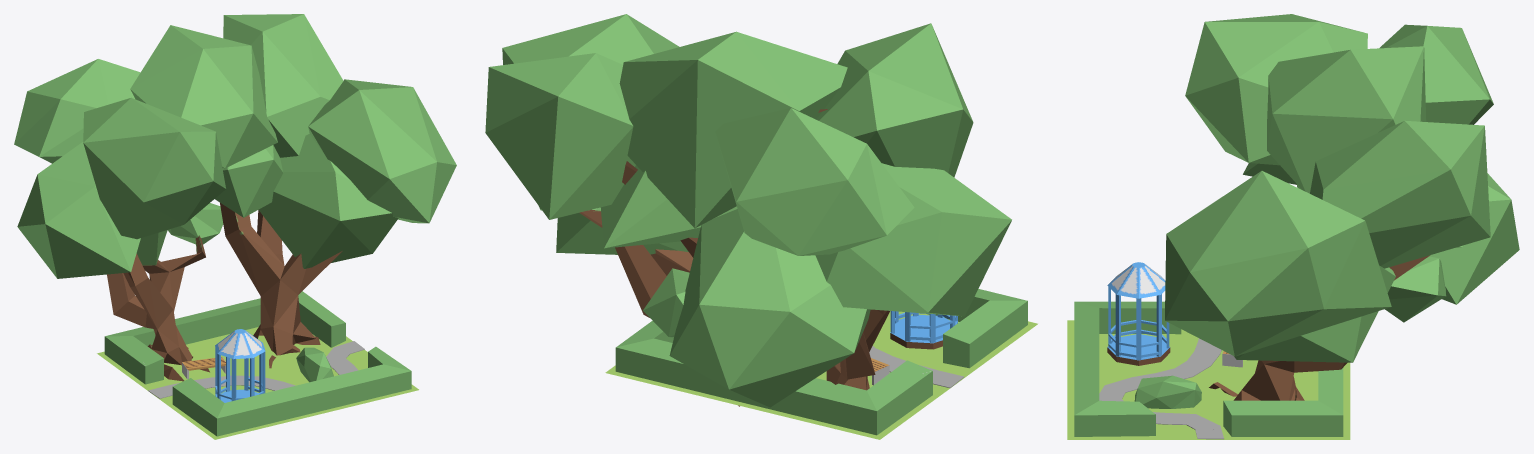
The model's file is Park.fbx.
The picture shows the model from 3 angles, left to right: view 1: azimuth 30°, elevation 25°; view 2: azimuth 150°, elevation 25°; view 3: azimuth 270°, elevation 25°; orthographic projection. The views are drawn at different scales.
Visible parts, largest first — view 1: Tree1_Leaves, Tree2_Leaves, Park_Border, Tree1, Tree2, Park_Ground, Path.001, Gazebo_Railings, Gazebo, Bush, Bench; view 2: Tree2_Leaves, Tree1_Leaves, Park_Border, Park_Ground, Tree1, Tree2, Gazebo, Gazebo_Railings, Path.001; view 3: Tree1_Leaves, Tree2_Leaves, Park_Border, Park_Ground, Tree1, Path.001, Gazebo, Gazebo_Railings, Bush.
Part boxes in pixels (left/top/right/bottom): Tree1_Leaves: left=130, top=14, right=456, bottom=268; Tree2_Leaves: left=14, top=59, right=225, bottom=278; Park_Border: left=104, top=291, right=411, bottom=436; Tree1: left=220, top=203, right=342, bottom=368; Tree2: left=107, top=235, right=209, bottom=381; Park_Ground: left=97, top=327, right=418, bottom=439; Path.001: left=148, top=341, right=364, bottom=398; Gazebo_Railings: left=215, top=347, right=265, bottom=401; Gazebo: left=215, top=329, right=265, bottom=402; Bush: left=296, top=347, right=333, bottom=382; Bench: left=182, top=357, right=225, bottom=378; Tree2_Leaves: left=643, top=23, right=1011, bottom=407; Tree1_Leaves: left=485, top=14, right=847, bottom=254; Park_Border: left=615, top=289, right=1027, bottom=435; Park_Ground: left=605, top=311, right=1037, bottom=439; Tree1: left=579, top=109, right=827, bottom=406; Tree2: left=826, top=309, right=889, bottom=390; Gazebo: left=890, top=314, right=949, bottom=349; Gazebo_Railings: left=890, top=311, right=957, bottom=342; Path.001: left=869, top=346, right=963, bottom=387; Tree1_Leaves: left=1165, top=46, right=1490, bottom=362; Tree2_Leaves: left=1185, top=14, right=1519, bottom=322; Park_Border: left=1074, top=301, right=1343, bottom=436; Park_Ground: left=1067, top=320, right=1350, bottom=439; Tree1: left=1209, top=255, right=1430, bottom=400; Path.001: left=1099, top=338, right=1223, bottom=439; Gazebo: left=1107, top=262, right=1170, bottom=365; Gazebo_Railings: left=1108, top=286, right=1169, bottom=359; Bush: left=1134, top=375, right=1201, bottom=408.
Bounding box in the file's own units: 835 × 623 × 712.
